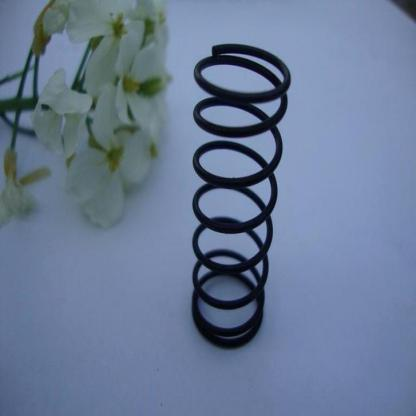FOD: (185, 37, 292, 356)
